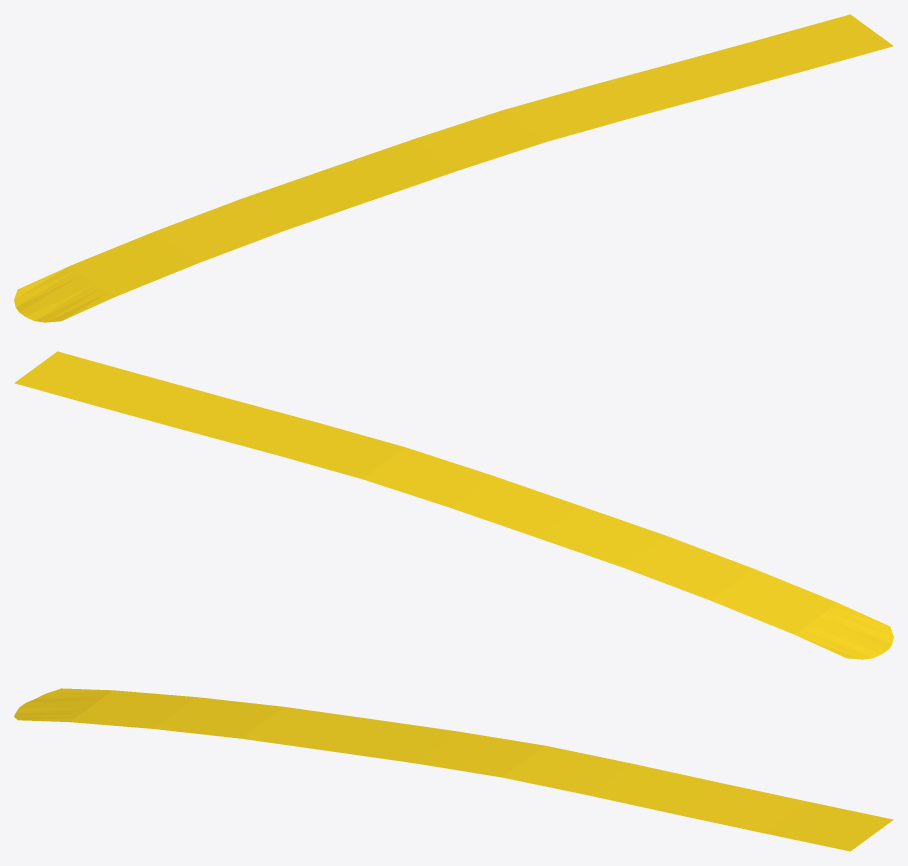
Rendered from Meter_PS_Bar_1.obj.
The picture shows the model from 3 angles, top to bottom: view 1: azimuth 30°, elevation 25°; view 2: azimuth 150°, elevation 25°; view 3: azimuth 330°, elevation 25°; orthographic projection.
Visible parts, largest first — view 1: Meter_PS_Bar_1; view 2: Meter_PS_Bar_1; view 3: Meter_PS_Bar_1.
Part boxes in pixels (x1=…): Meter_PS_Bar_1: x1=14, y1=14, x2=893, y2=322; Meter_PS_Bar_1: x1=14, y1=351, x2=893, y2=659; Meter_PS_Bar_1: x1=14, y1=688, x2=893, y2=851.
Bounding box in the file's own units: 123 × 10.71 × 10.94.
